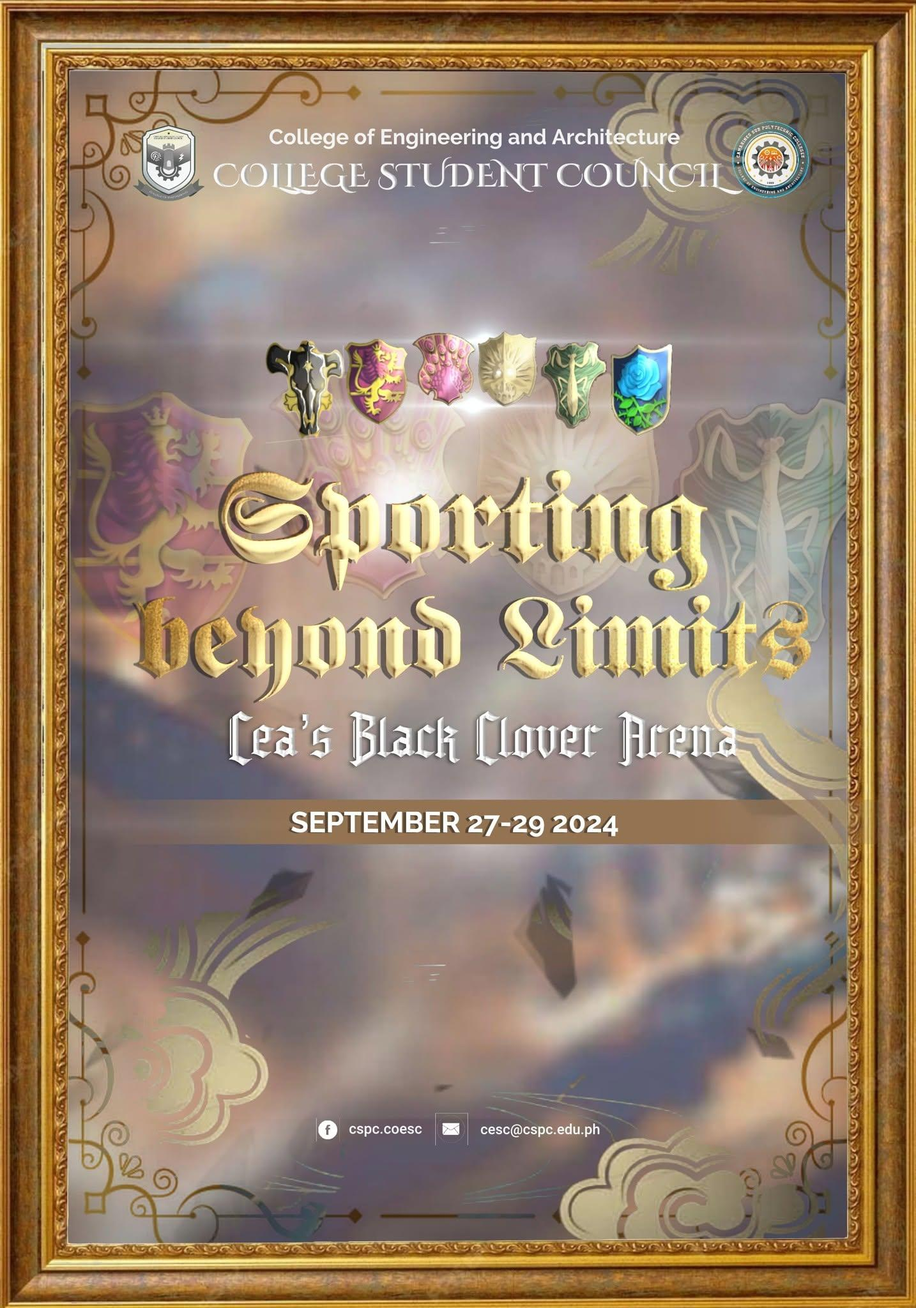embellishment: (264, 328, 689, 441), (526, 866, 577, 1001)
logo: (732, 119, 811, 199), (137, 119, 200, 200), (318, 1120, 338, 1139), (441, 1120, 460, 1138)
text: (137, 594, 813, 706), (219, 472, 710, 591), (229, 711, 737, 768), (213, 161, 742, 195), (268, 128, 680, 149), (291, 810, 618, 836), (480, 1123, 600, 1137), (349, 1123, 422, 1136)
underlay: (99, 799, 813, 845)
